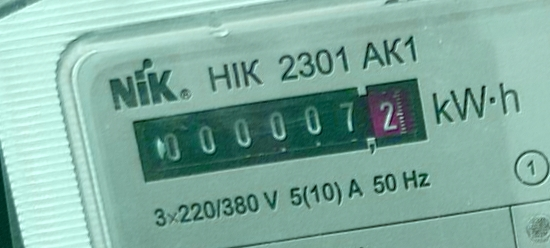0: (229, 112, 257, 153), (159, 127, 186, 165), (266, 107, 291, 147), (195, 120, 220, 158), (300, 101, 325, 139)
2: (376, 97, 402, 135)
7: (335, 96, 361, 137)
screen: (126, 69, 438, 191)
